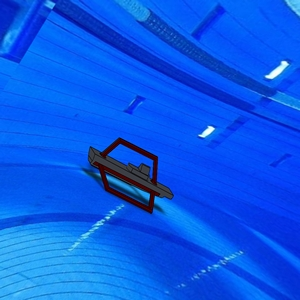submarine: (83, 132, 181, 218)
